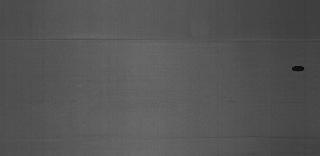punching hole: (289, 64, 305, 72)
welding line: (2, 34, 318, 46)
